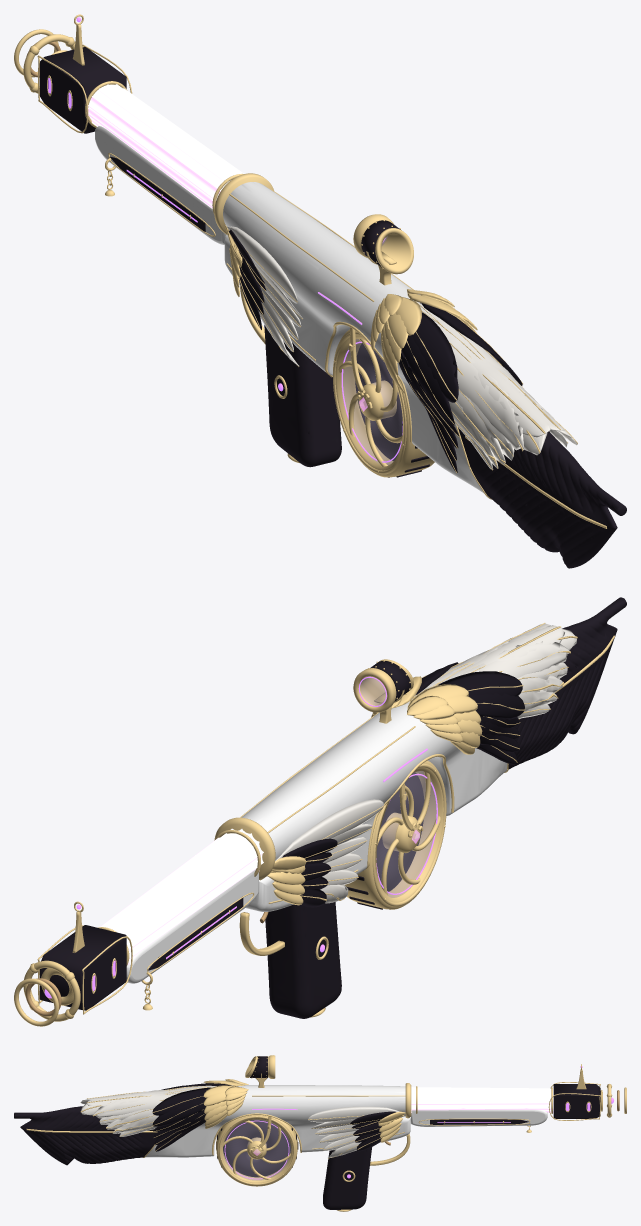
File: rifle-DvOvkZYK.glb
3 views of the same model, one above another, from view 1: azimuth 30°, elevation 25°; view 2: azimuth 150°, elevation 25°; view 3: azimuth 270°, elevation 25° (orthographic). The views are drawn at different scales.
Parts seen in each view (by area): view 1: body, drum_mesh, plumeL2_mesh, plumeL7_mesh, plumeL1_mesh, plumeL8_mesh, plumeL24_mesh, plumeR7_mesh, plumeR1_mesh, plumeL4_mesh, muzzle_ringA, plumeL5_mesh; view 2: body, drum_mesh, plumeL24_mesh, plumeL2_mesh, plumeL1_mesh, plumeL7_mesh, plumeL8_mesh, muzzle_ringA, muzzle_ringC, plumeL30_mesh, plumeL13_mesh, plumeL4_mesh; view 3: body, drum_mesh, plumeR2_mesh, plumeR24_mesh, plumeR7_mesh, plumeR8_mesh, plumeR1_mesh, plumeL1_mesh, plumeR4_mesh, plumeR5_mesh, plumeR11_mesh, plumeR30_mesh (+7 smaller).
Boxes of the visible parts, left/top/right/bottom form: body: left=37, top=14, right=626, bottom=568; drum_mesh: left=333, top=329, right=434, bottom=477; plumeL2_mesh: left=450, top=340, right=523, bottom=451; plumeL7_mesh: left=408, top=312, right=458, bottom=402; plumeL1_mesh: left=433, top=320, right=550, bottom=437; plumeL8_mesh: left=401, top=335, right=454, bottom=425; plumeL24_mesh: left=227, top=226, right=297, bottom=303; plumeR7_mesh: left=421, top=303, right=522, bottom=385; plumeR1_mesh: left=420, top=302, right=564, bottom=430; plumeL4_mesh: left=455, top=390, right=505, bottom=464; muzzle_ringA: left=23, top=34, right=75, bottom=93; plumeL5_mesh: left=448, top=401, right=498, bottom=468; body: left=37, top=597, right=626, bottom=1018; drum_mesh: left=345, top=760, right=446, bottom=909; plumeL24_mesh: left=275, top=799, right=384, bottom=860; plumeL2_mesh: left=461, top=641, right=570, bottom=678; plumeL1_mesh: left=440, top=625, right=564, bottom=683; plumeL7_mesh: left=437, top=671, right=523, bottom=696; plumeL8_mesh: left=469, top=693, right=525, bottom=719; muzzle_ringA: left=23, top=960, right=80, bottom=1021; muzzle_ringC: left=14, top=978, right=59, bottom=1026; plumeL30_mesh: left=282, top=838, right=337, bottom=859; plumeL13_mesh: left=407, top=684, right=468, bottom=708; plumeL4_mesh: left=517, top=674, right=563, bottom=693; body: left=14, top=1055, right=602, bottom=1211; drum_mesh: left=216, top=1115, right=298, bottom=1186; plumeR2_mesh: left=93, top=1090, right=186, bottom=1118; plumeR24_mesh: left=308, top=1106, right=399, bottom=1122; plumeR7_mesh: left=152, top=1087, right=210, bottom=1115; plumeR8_mesh: left=152, top=1098, right=205, bottom=1126; plumeR1_mesh: left=87, top=1089, right=196, bottom=1107; plumeL1_mesh: left=87, top=1085, right=232, bottom=1100; plumeR4_mesh: left=106, top=1108, right=155, bottom=1129; plumeR5_mesh: left=112, top=1114, right=158, bottom=1133; plumeR11_mesh: left=154, top=1118, right=205, bottom=1145; plumeR30_mesh: left=350, top=1111, right=395, bottom=1124.
Size of the model in its own units: 0.0734 by 0.2277 by 0.8331.
